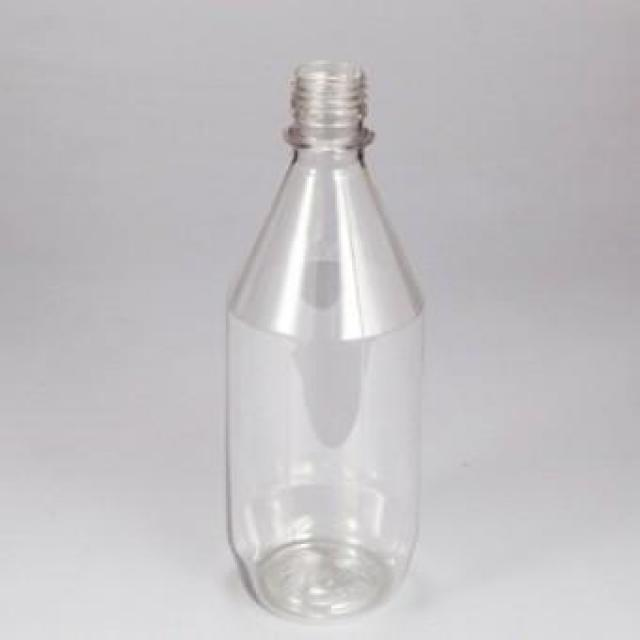bottle: (203, 48, 448, 634)
